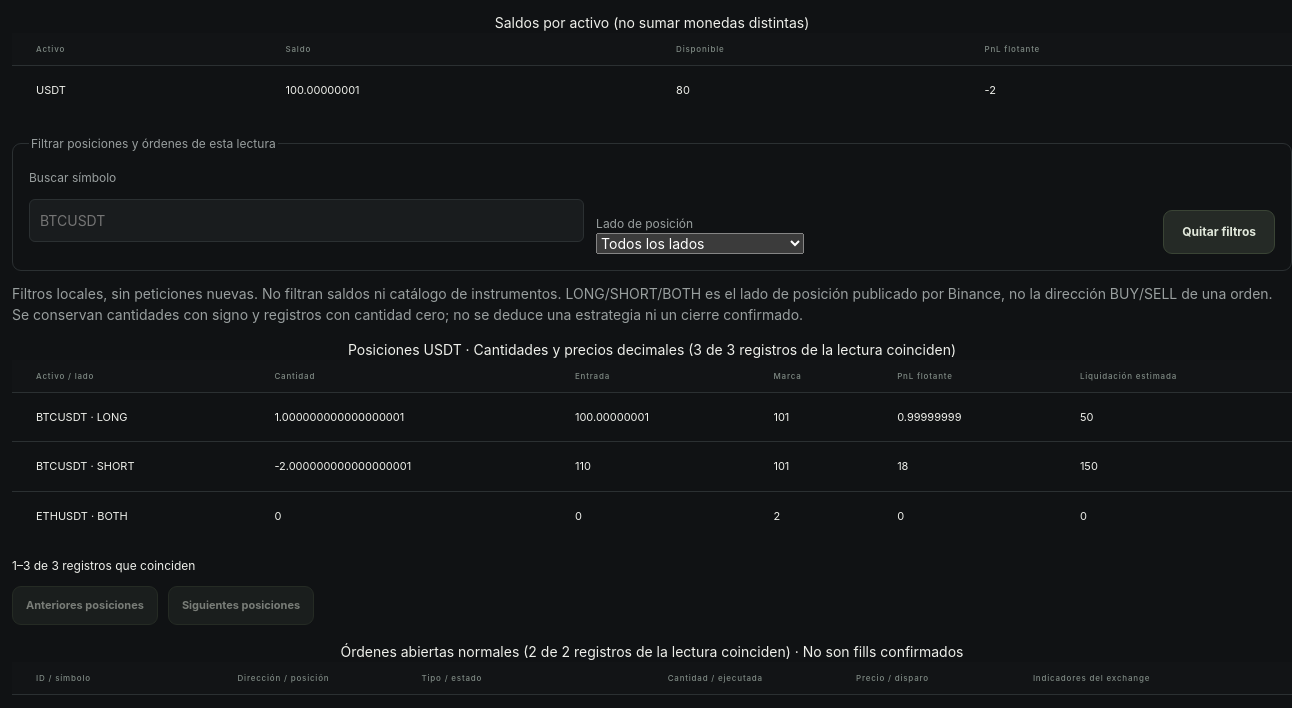
Test: filters by position side, never BUY/SELL, without refetching or changing balances
Select "SHORT" in the dropdown labelled "Lado de posición" at (700, 243), box x1=596 y1=232 x2=804 y2=254
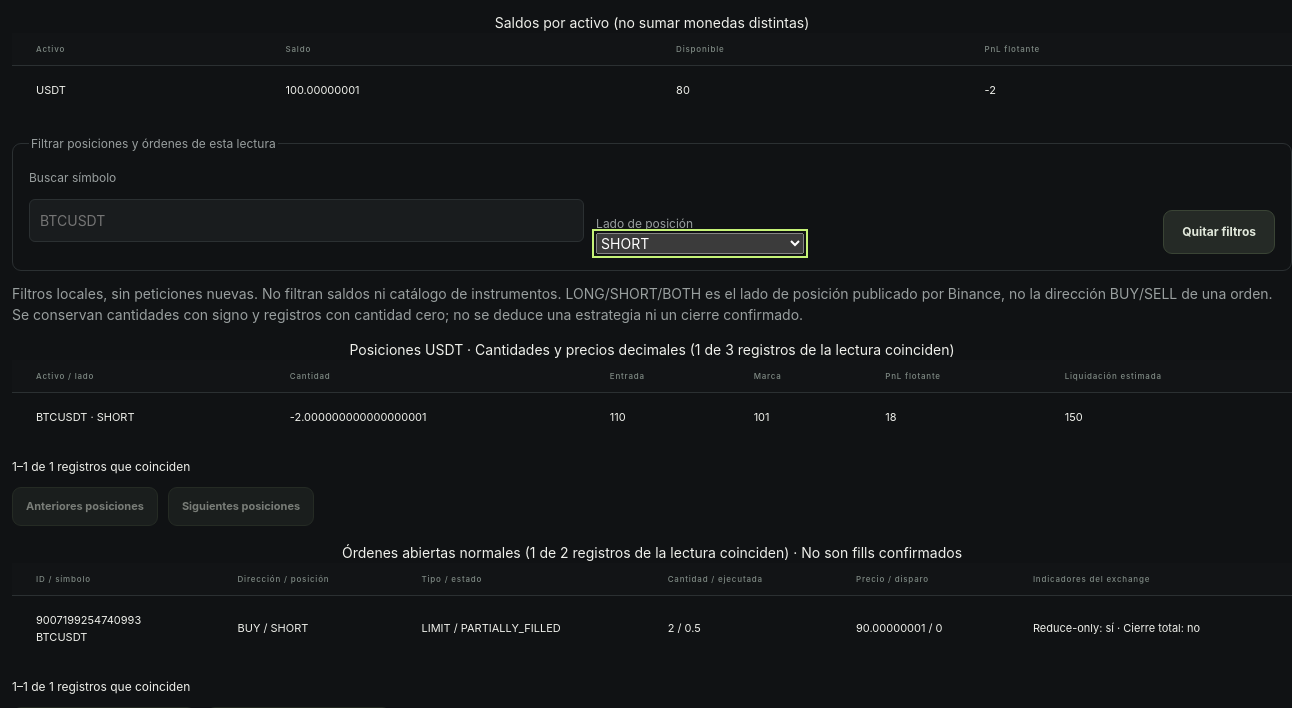
Expected: the cell "9007199254740993BTCUSDT" is shown, x1=12 y1=596 x2=214 y2=661
Now the cell "1.000000000000000001" is gone
Now the number of cells "BUY / SHORT" is 2
Select "BOTH · Modo unidireccional" in the dropdown labelled "Lado de posición" at (700, 243), box x1=596 y1=232 x2=804 y2=254
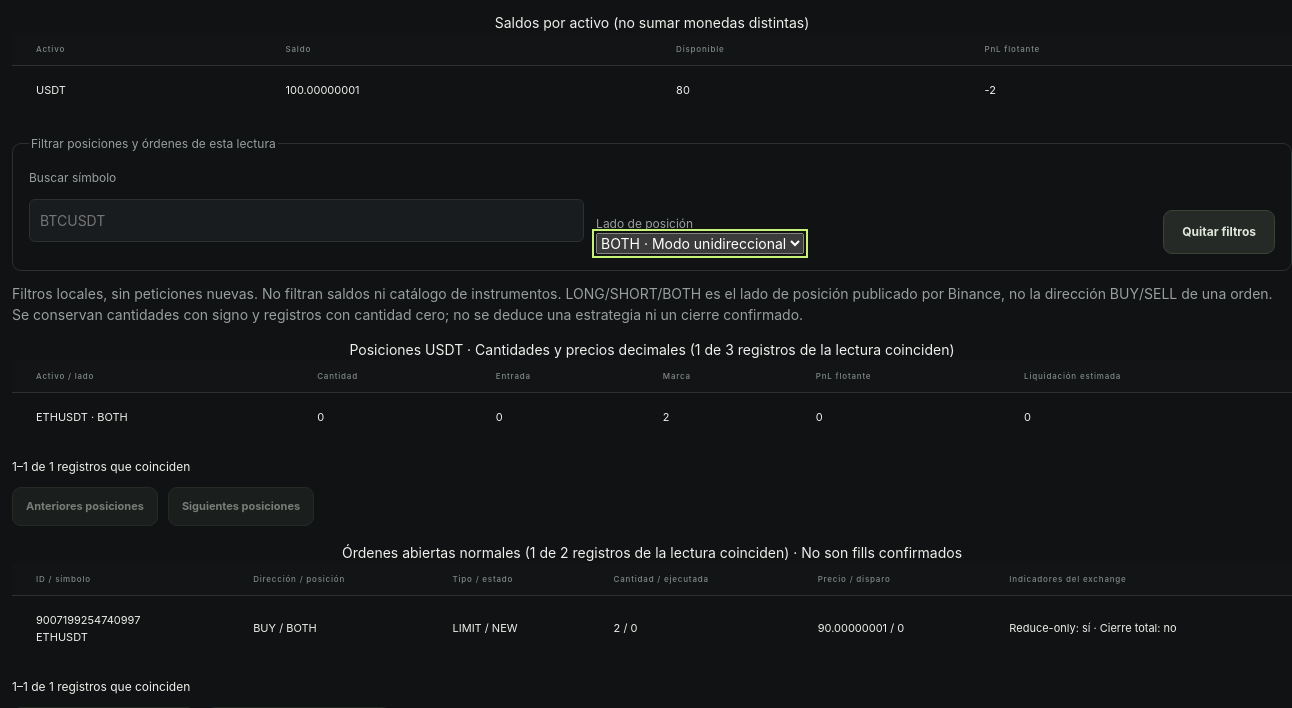
Now the cell "ETHUSDT · BOTH" is shown, box x1=12 y1=392 x2=293 y2=441
Now the cell "9007199254740997ETHUSDT" is shown, box x1=12 y1=596 x2=229 y2=661
Click the button "Quitar filtros" at (1219, 232), box x1=1163 y1=210 x2=1275 y2=254
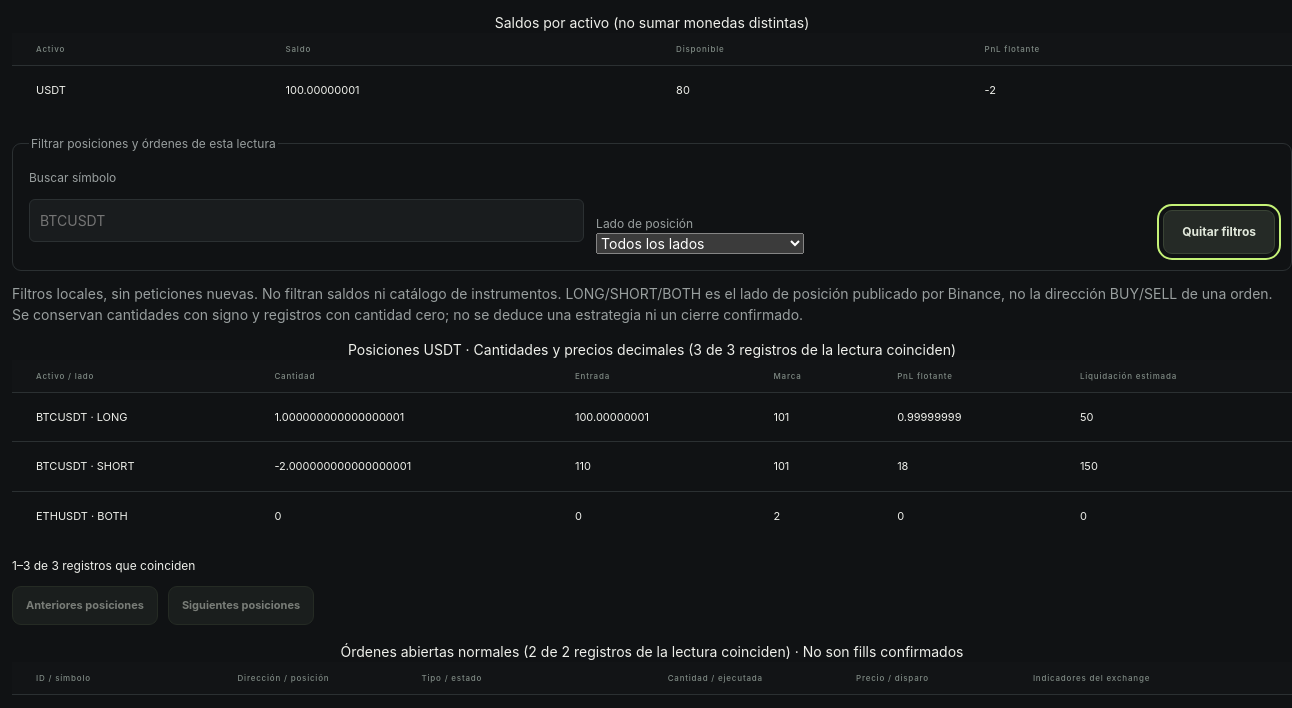
Type "missing" into the search field labelled "Buscar símbolo" at (307, 220), box x1=29 y1=198 x2=584 y2=242
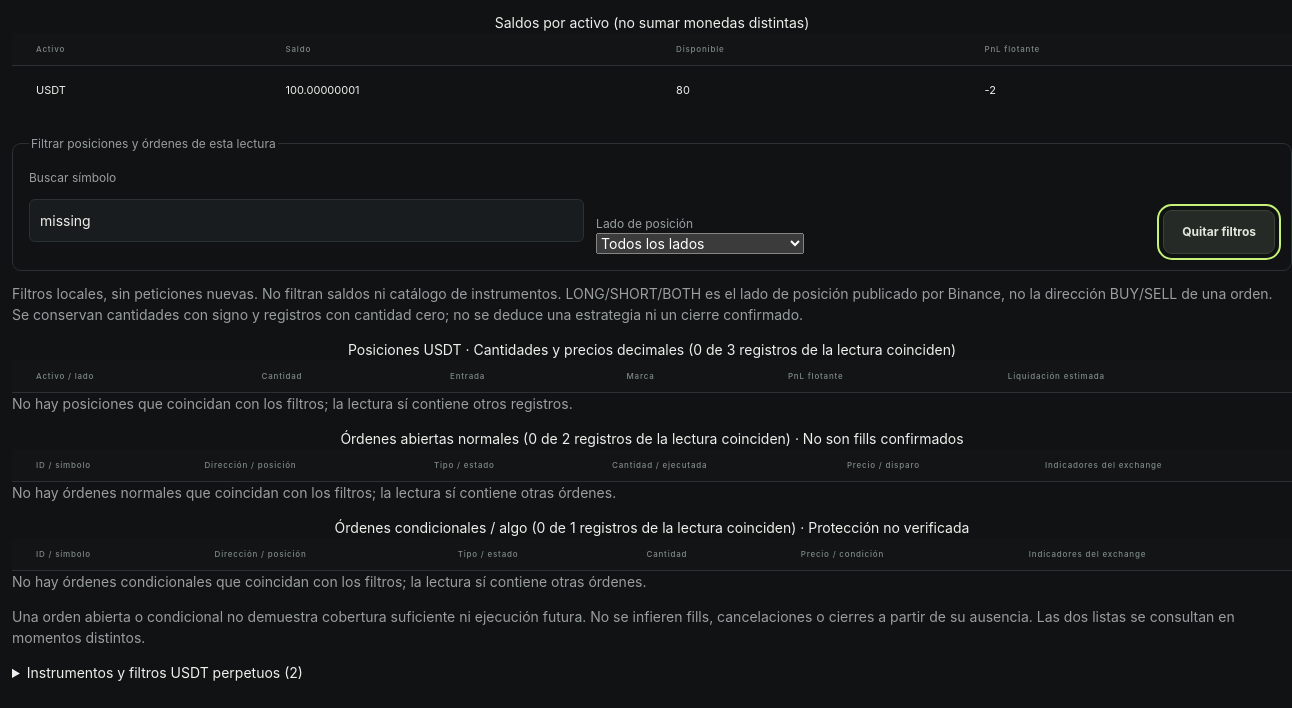
Expected: the cell "100.00000001" is shown, x1=262 y1=66 x2=652 y2=114
Now the text "No hay posiciones que coincidan" is shown, box x1=12 y1=394 x2=573 y2=412
